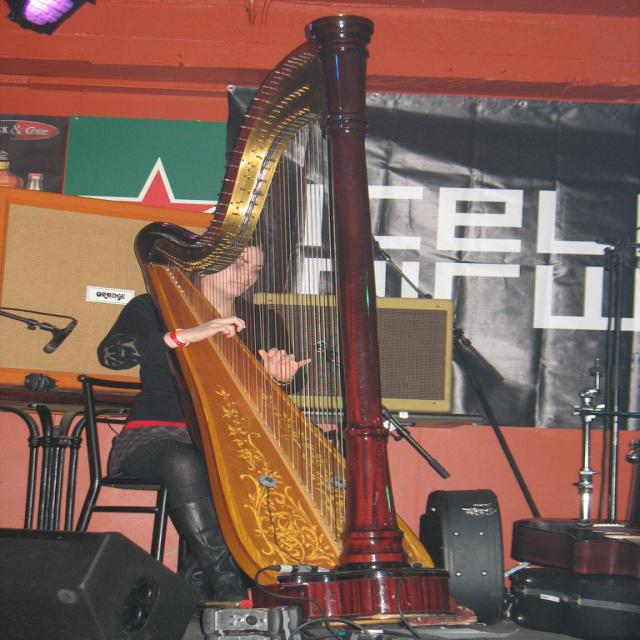harp: (126, 15, 464, 628)
